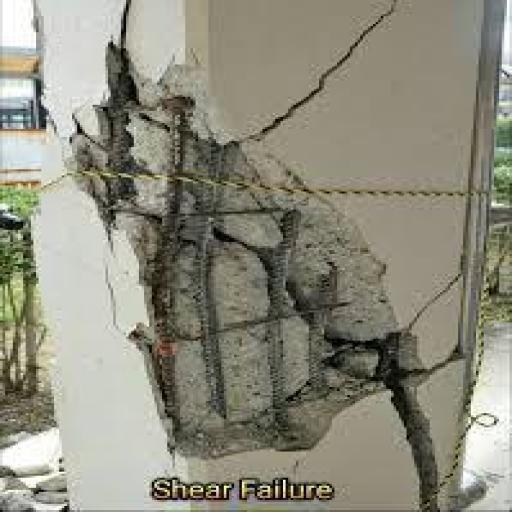spalling: (65, 37, 445, 512), (251, 3, 407, 139), (403, 268, 464, 331)
